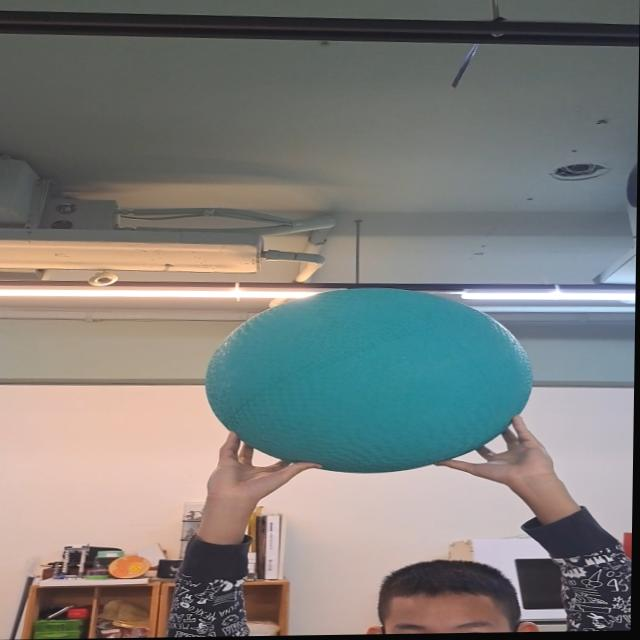ALGAE: (204, 285, 534, 476)
